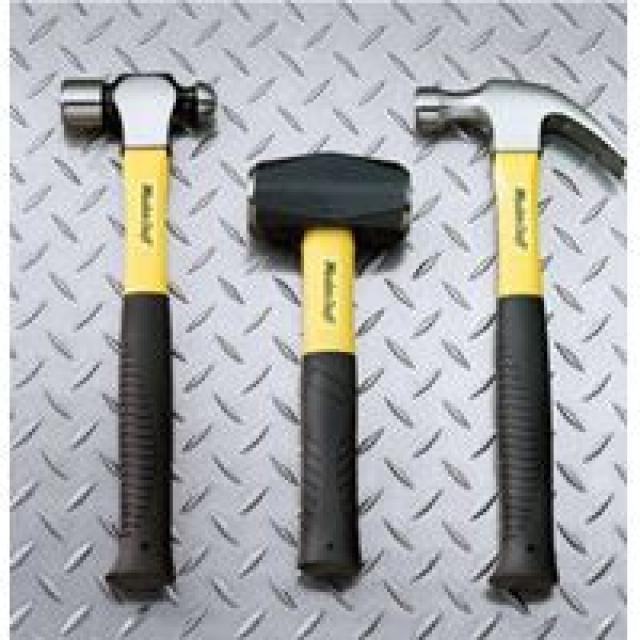hammer: (405, 66, 639, 611), (48, 62, 224, 602), (233, 137, 422, 598)
